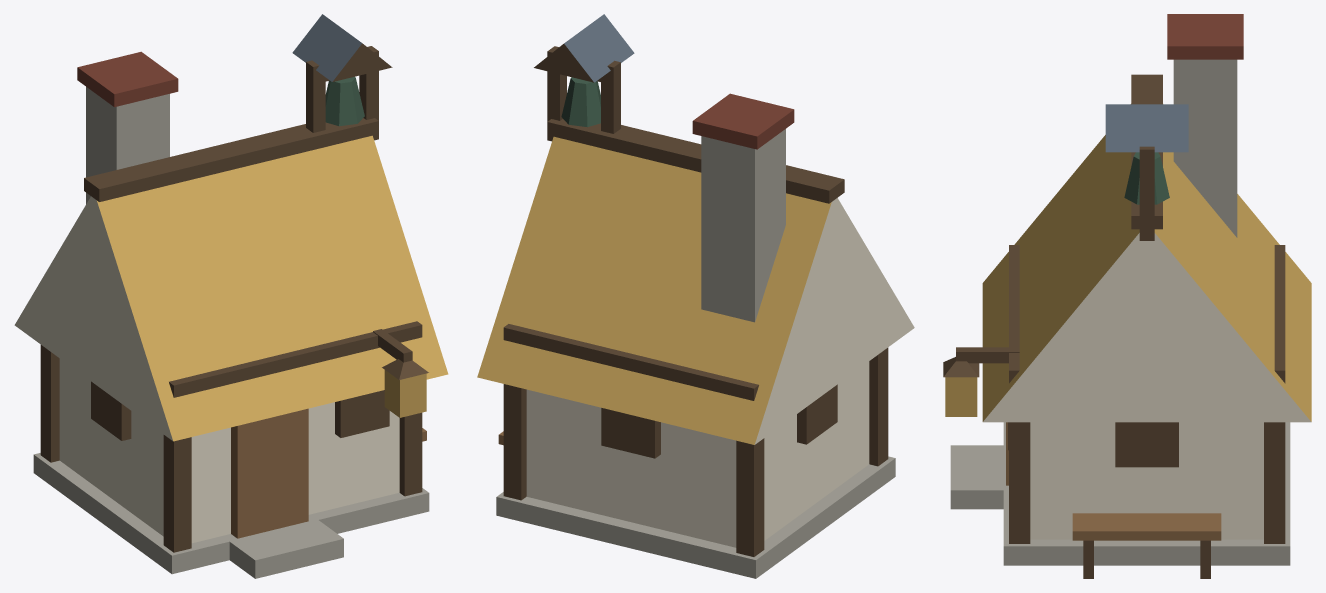
File: keeper-hut.glb
The picture shows the model from 3 angles, left to right: view 1: azimuth 30°, elevation 25°; view 2: azimuth 150°, elevation 25°; view 3: azimuth 270°, elevation 25°; orthographic projection. The views are drawn at different scales.
Visible parts, largest first — view 1: keeper-hut; view 2: keeper-hut; view 3: keeper-hut.
Part boxes in pixels (box(x1,y1,x2,y2)): keeper-hut: box(14, 14, 448, 578); keeper-hut: box(477, 14, 914, 578); keeper-hut: box(943, 14, 1311, 578).
Size of the model in its own units: 3.38 by 4.7 by 3.47.
1 material, 1 textured.
